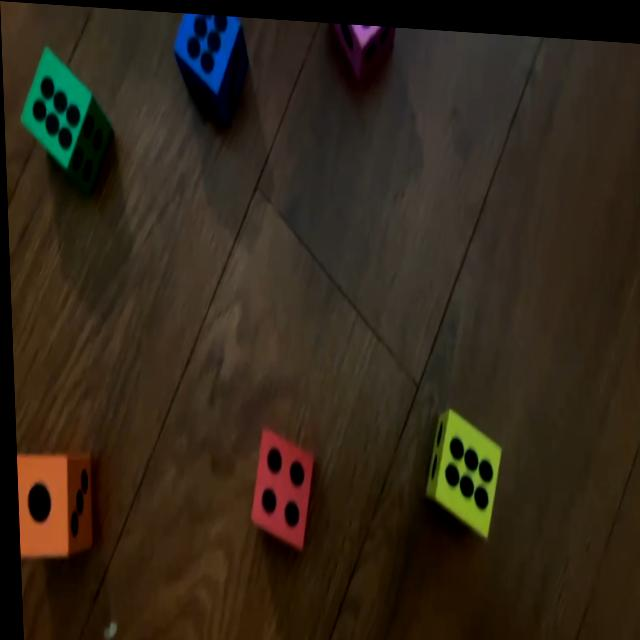cube: (18, 43, 111, 196), (172, 9, 250, 122), (243, 424, 313, 546)
